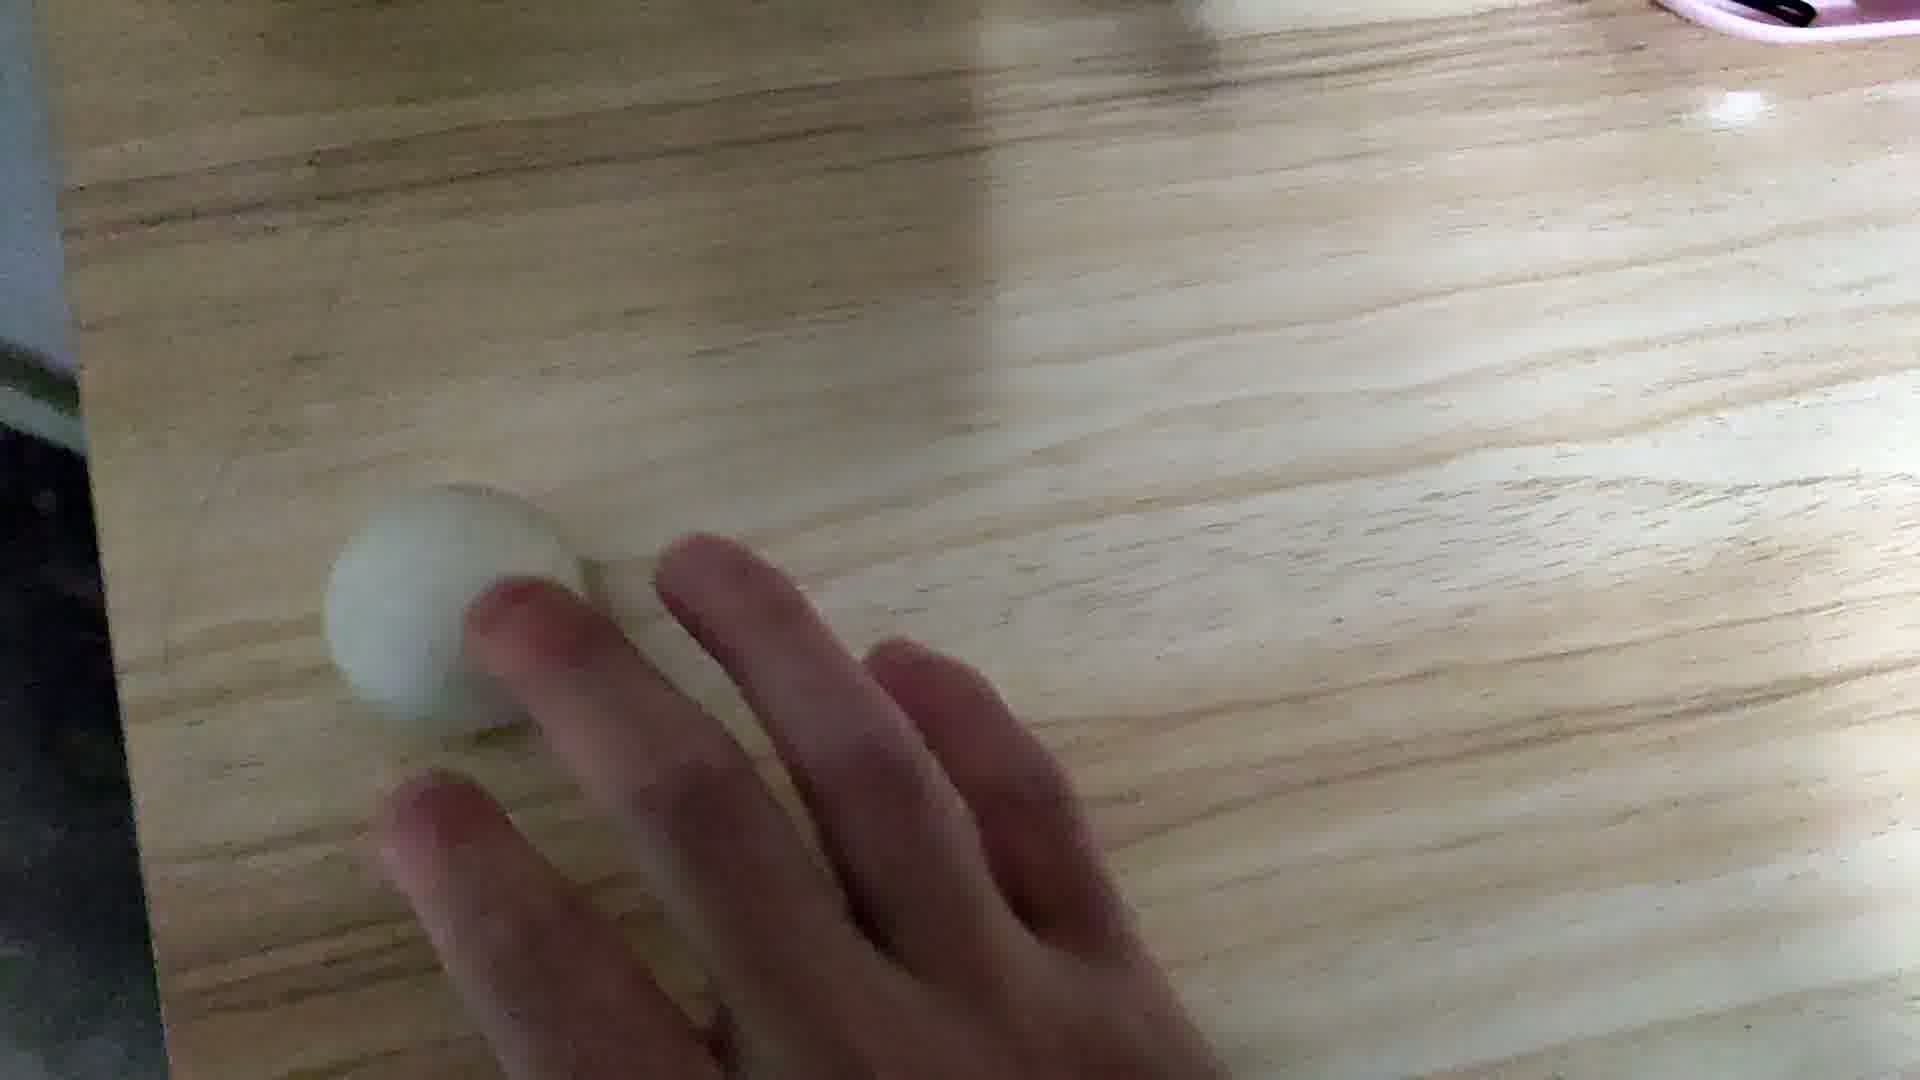Ball: (320, 485, 593, 737)
